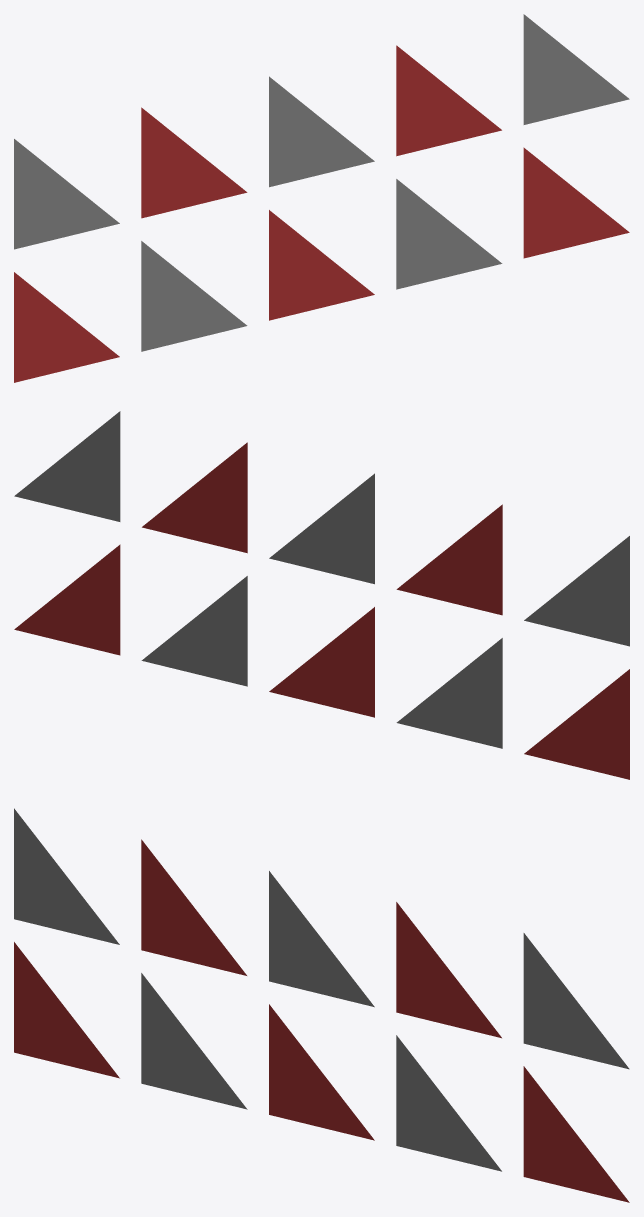
The model's file is broken_materials.dae.
3 renders of one model, top to bottom at view 1: azimuth 30°, elevation 25°; view 2: azimuth 150°, elevation 25°; view 3: azimuth 330°, elevation 25°, orthographic.
Parts seen in each view (by area): view 1: BrokenNode; view 2: BrokenNode; view 3: BrokenNode.
Part boxes in pixels (x1,y1,x2,y2): BrokenNode: (14, 14, 629, 382); BrokenNode: (14, 411, 629, 779); BrokenNode: (14, 808, 629, 1202).
Size of the model in its own units: 5.8 by 2.2 by 0.
